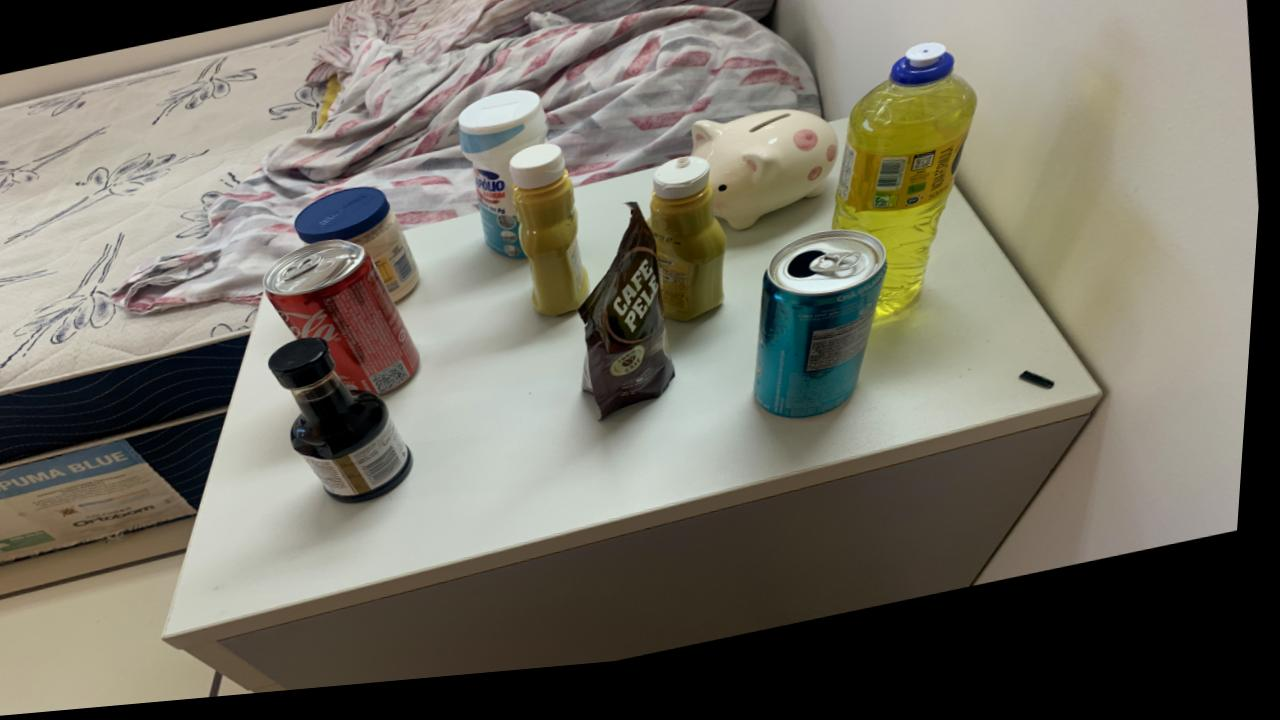Cleaner-Cleanup_Items: (461, 99, 551, 269)
Coffee-Pantry_Items: (586, 215, 679, 428)
Coke-Drinks: (267, 246, 425, 403)
Detergent-Cleanup_Items: (838, 60, 980, 334)
English_Sauce-Pantry_Items: (273, 343, 420, 511)
Mayonnaise-Pantry_Items: (298, 193, 424, 309)
Mustard-Pantry_Items: (512, 154, 595, 327), (653, 168, 731, 334)
Pig_Safe-Miscellaneous: (695, 124, 841, 244)
Tea-Drinks: (761, 246, 893, 434)
